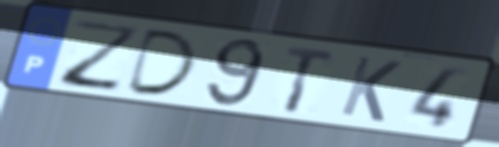4: (405, 64, 466, 132)
9: (202, 36, 269, 109)
D: (121, 26, 201, 98)
K: (336, 53, 405, 125)
T: (281, 43, 339, 116)
Z: (57, 18, 145, 95)
